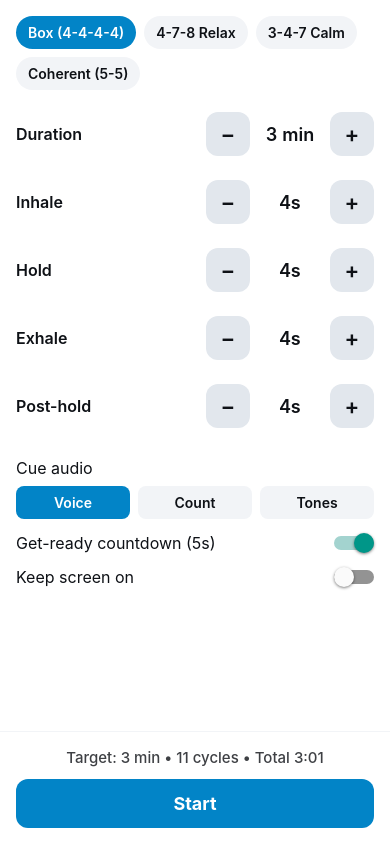
BreatheScreen: settings editing (US2) › tapping 4-7-8 Relax preset updates fields and marks it selected
This screenshot has width=390, height=844.
Check: the button with aria-label "Box (4-4-4-4), selected" is shown, box x1=16 y1=16 x2=136 y2=49
Click the button "4-7-8 Relax" at [196, 32], box x1=144 y1=16 x2=248 y2=49
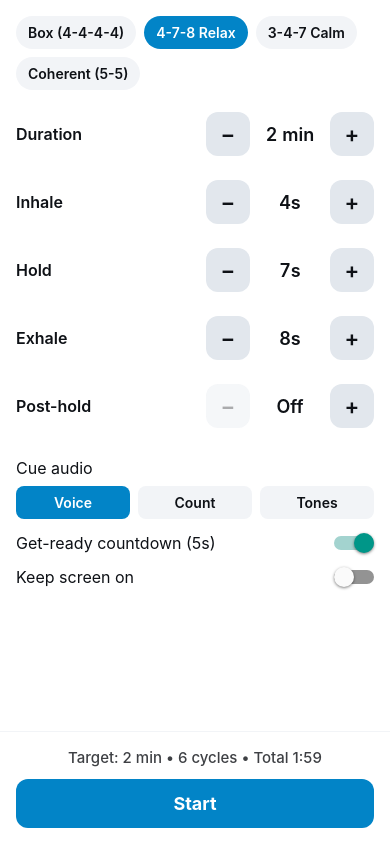
Check: the button with aria-label "4-7-8 Relax, selected" is shown, box x1=144 y1=16 x2=248 y2=49
